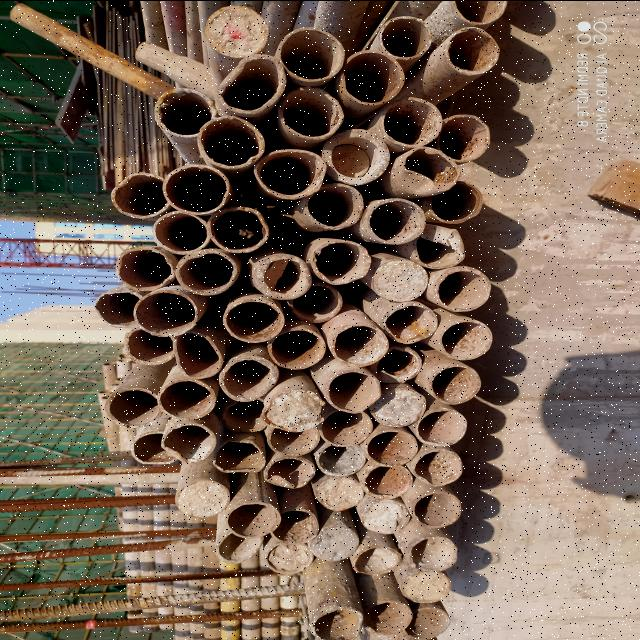pipe: (216, 53, 286, 114), (319, 128, 393, 182), (160, 162, 233, 216), (253, 146, 326, 198), (196, 114, 266, 168), (278, 26, 346, 81), (340, 48, 404, 105), (204, 4, 270, 58), (278, 85, 344, 139), (381, 96, 444, 148), (152, 86, 216, 136), (206, 204, 270, 254), (260, 384, 326, 432), (174, 247, 238, 295), (133, 290, 200, 335), (222, 296, 286, 342), (110, 170, 168, 220), (219, 353, 279, 401), (305, 182, 364, 230), (252, 251, 312, 297), (445, 25, 500, 75), (366, 198, 424, 245), (438, 112, 492, 162), (114, 246, 174, 291), (436, 264, 492, 312), (311, 238, 372, 282), (372, 257, 430, 303), (402, 144, 462, 188), (266, 326, 326, 369), (152, 210, 210, 254), (379, 300, 436, 344), (332, 322, 389, 366), (157, 376, 215, 419), (378, 14, 432, 60), (429, 179, 485, 223), (326, 368, 382, 412), (171, 331, 222, 379), (104, 387, 164, 427), (173, 477, 232, 517), (416, 222, 466, 268), (160, 423, 217, 463), (228, 498, 282, 540), (289, 282, 345, 322), (122, 326, 178, 366), (439, 320, 494, 360), (372, 386, 426, 426), (306, 522, 360, 562), (365, 428, 421, 466), (414, 407, 468, 446), (412, 447, 466, 486), (432, 362, 482, 404), (92, 288, 144, 328), (318, 409, 375, 445), (412, 488, 462, 528), (406, 532, 458, 570), (213, 437, 264, 475), (308, 606, 364, 640), (364, 598, 414, 636), (362, 496, 411, 534), (264, 455, 318, 489), (361, 464, 415, 498), (312, 476, 364, 511), (372, 344, 422, 380), (272, 506, 319, 544), (129, 430, 178, 466), (399, 570, 453, 602), (214, 530, 264, 564), (264, 541, 314, 575), (403, 606, 452, 640), (352, 543, 404, 575), (220, 398, 268, 432), (266, 426, 322, 455), (316, 442, 366, 474), (454, 1, 509, 23)
